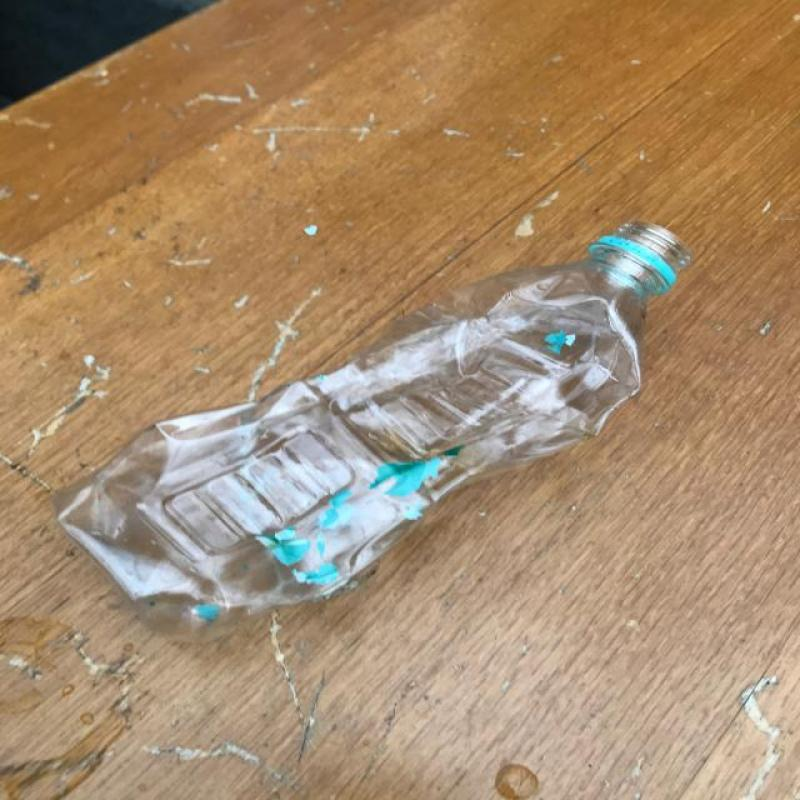botella: (56, 220, 693, 642)
